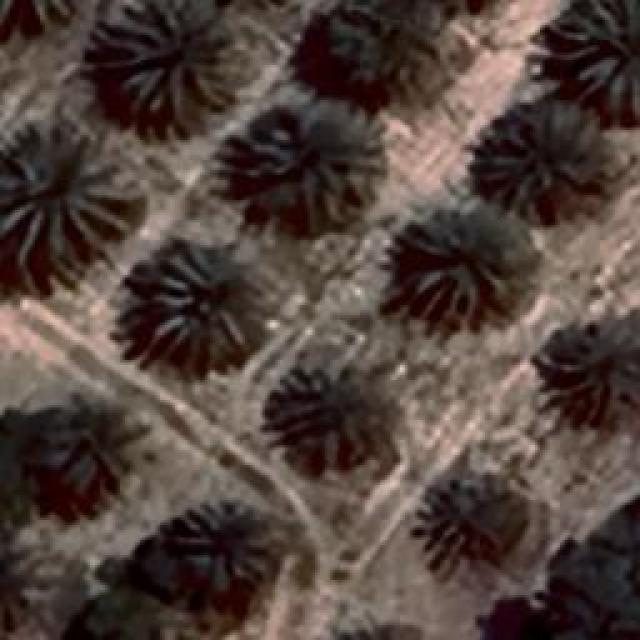PalmTree: (0, 124, 142, 257), (238, 98, 382, 228), (97, 0, 235, 118), (402, 200, 530, 325), (475, 95, 610, 205), (150, 250, 250, 362), (37, 395, 145, 490), (552, 308, 638, 420), (552, 0, 638, 110), (308, 8, 424, 88), (178, 500, 278, 588), (418, 470, 518, 552), (270, 362, 360, 436), (0, 522, 44, 625), (0, 0, 78, 42)
